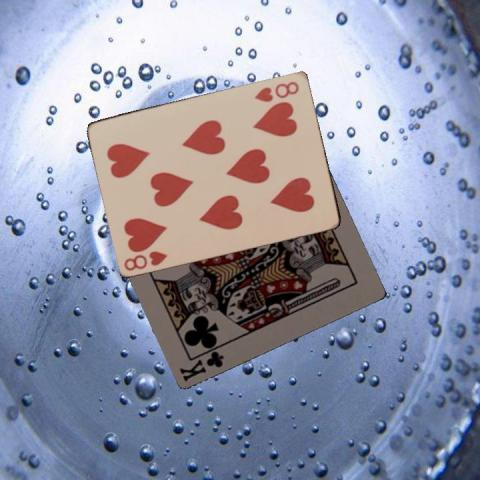8h: (251, 78, 301, 103), (122, 247, 169, 272)
Kc: (177, 347, 225, 383)
